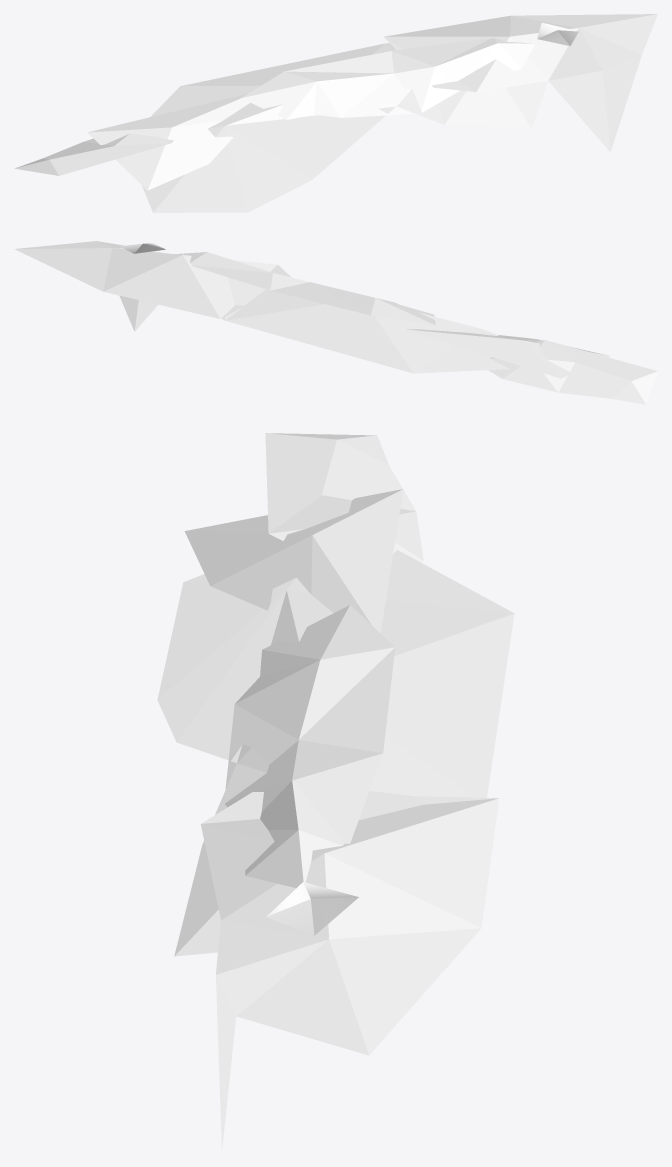
File: SM_Env_Ivy_Draped_Flowers_03.glb
3 renders of one model, top to bottom at view 1: azimuth 30°, elevation 25°; view 2: azimuth 150°, elevation 25°; view 3: azimuth 270°, elevation 25°, orthographic. The views are drawn at different scales.
Parts seen in each view (by area): view 1: SM_Env_Ivy_Draped_Flowers_03; view 2: SM_Env_Ivy_Draped_Flowers_03; view 3: SM_Env_Ivy_Draped_Flowers_03.
Part boxes in pixels (x1,y1,x2,y2): SM_Env_Ivy_Draped_Flowers_03: [14, 14, 657, 212]; SM_Env_Ivy_Draped_Flowers_03: [14, 241, 657, 404]; SM_Env_Ivy_Draped_Flowers_03: [157, 433, 514, 1150].
Size of the model in its own units: 3.11 by 0.548 by 0.7581.
1 material, 1 textured.
